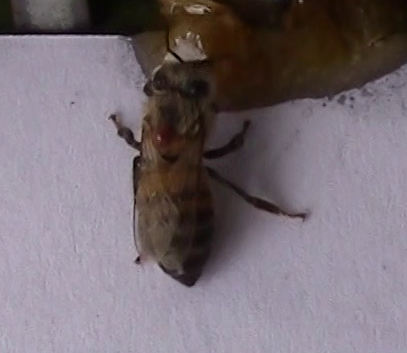Varroa destructor: (151, 121, 177, 150)
